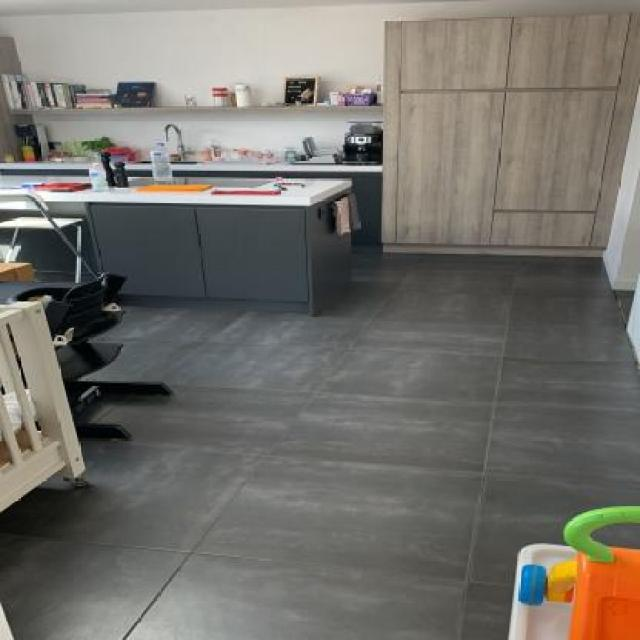Floor: (1, 252, 640, 640), (112, 306, 116, 309), (54, 345, 58, 348)
